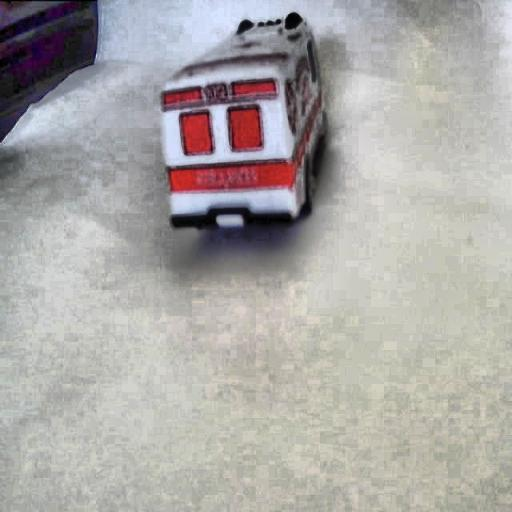ambulance: (160, 12, 327, 229)
